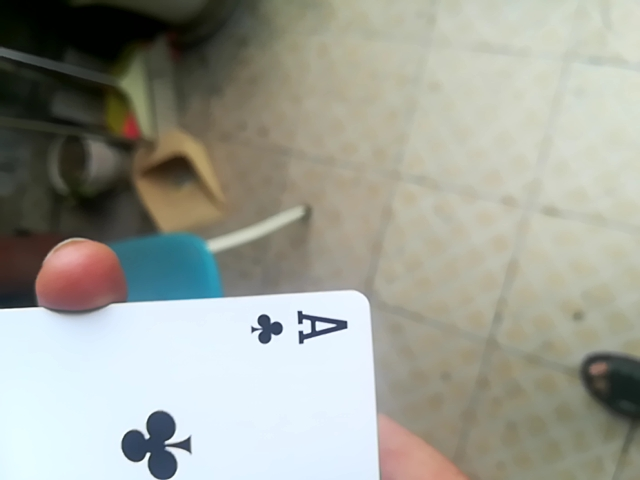mh a: (1, 286, 382, 480)
